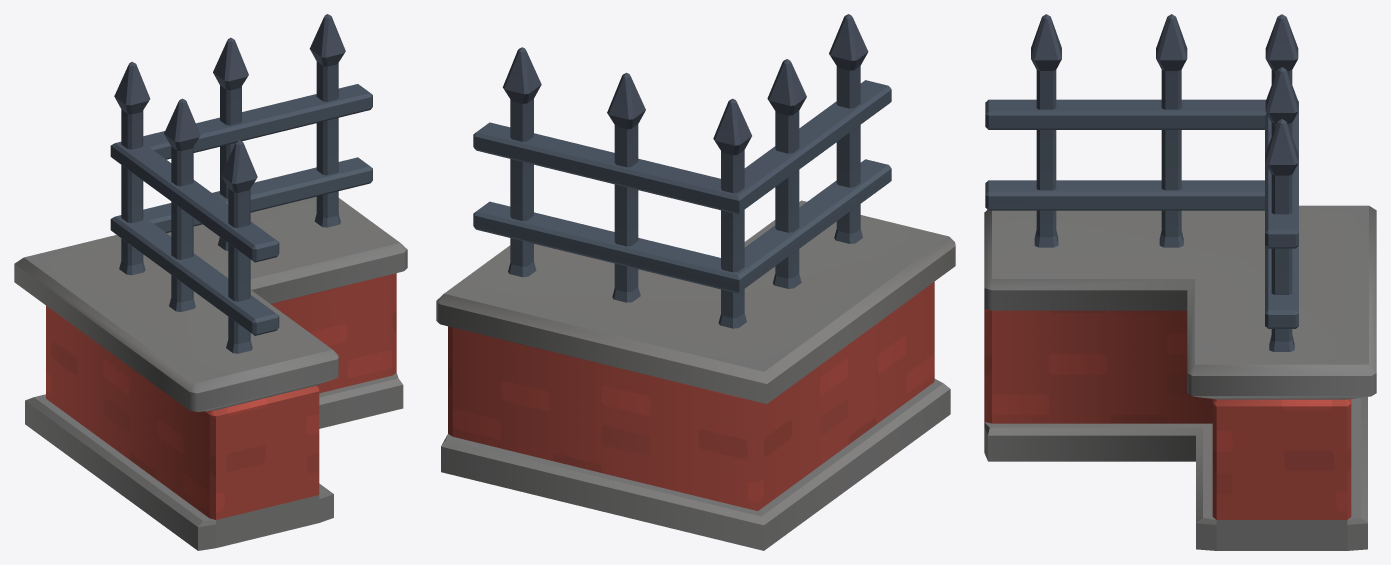
File: BrickWall_6_1.fbx
3 renders of one model, left to right at view 1: azimuth 30°, elevation 25°; view 2: azimuth 150°, elevation 25°; view 3: azimuth 270°, elevation 25°, orthographic. The views are drawn at different scales.
Visible parts, largest first — view 1: BrickWall_6_1; view 2: BrickWall_6_1; view 3: BrickWall_6_1.
Part boxes in pixels (box(x1,y1,x2,y2)): BrickWall_6_1: box(14, 14, 407, 550); BrickWall_6_1: box(436, 14, 955, 550); BrickWall_6_1: box(984, 14, 1376, 550).
Size of the model in its own units: 132 by 152 by 132.
